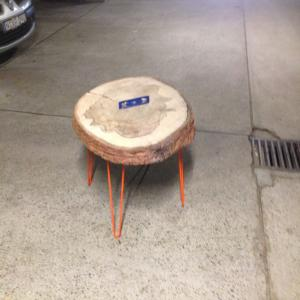Vehicle-registration-plate: (4, 13, 27, 34)
